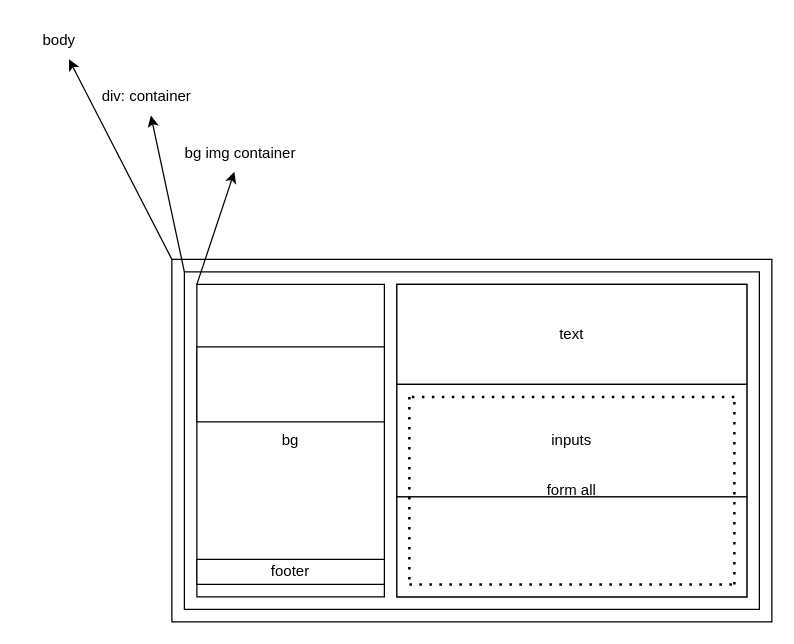
Image size: 794x644. Some labels were removed from this diagram. The centre of each missing label's shape, as x and y in pixels:
"button + text" belongs at (571,546).
"logo" belongs at (290,384).
